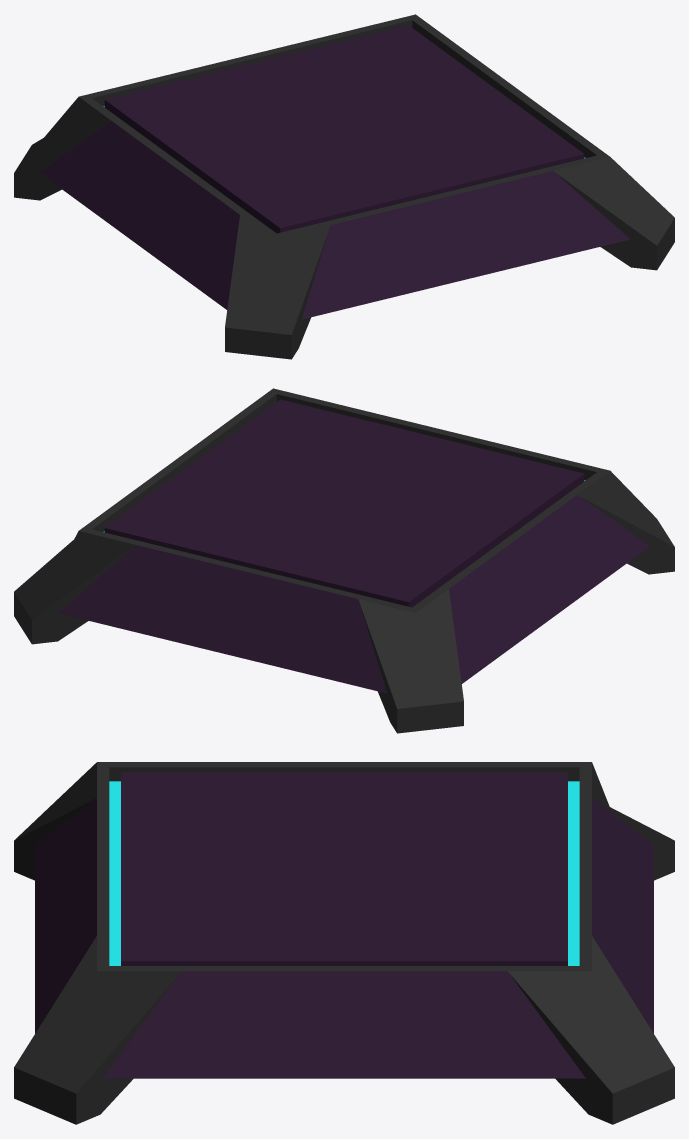
File: TowerBase2cut.fbx
The picture shows the model from 3 angles, top to bottom: view 1: azimuth 30°, elevation 25°; view 2: azimuth 150°, elevation 25°; view 3: azimuth 270°, elevation 25°; orthographic projection. The views are drawn at different scales.
Visible parts, largest first — view 1: Cube, Cube.005; view 2: Cube, Cube.005; view 3: Cube, Cube.005.
Boxes of the visible parts, left/top/right/bottom form: Cube: left=14, top=14, right=674, bottom=359; Cube.005: left=105, top=25, right=583, bottom=227; Cube: left=14, top=388, right=674, bottom=733; Cube.005: left=105, top=399, right=583, bottom=601; Cube: left=14, top=762, right=674, bottom=1124; Cube.005: left=121, top=772, right=567, bottom=961.
Size of the model in its own units: 192 by 38 by 192.
